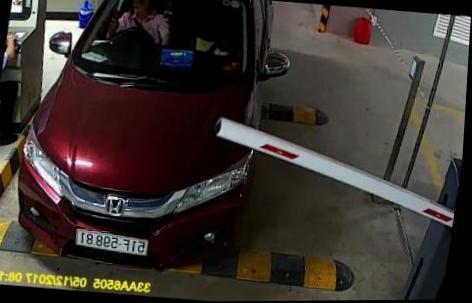License_Plate: (70, 228, 156, 260)
